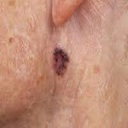Carcinoma: (48, 41, 73, 78)
